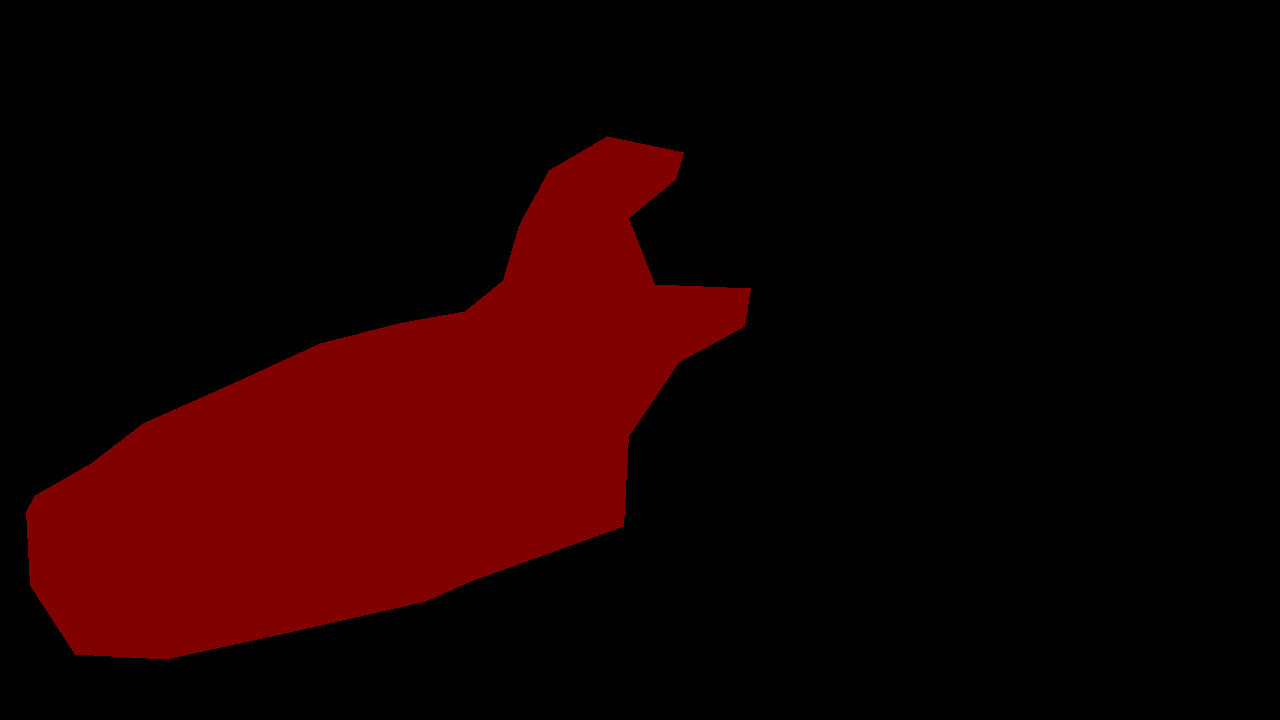fire: (26, 136, 750, 659)
